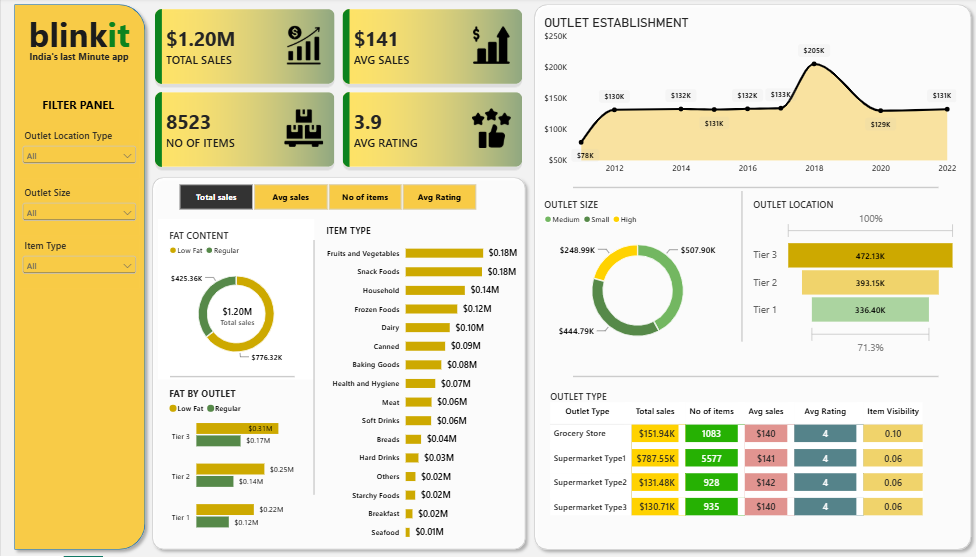

The page's visual inventory and layout, read from the dashboard file:
{"tool":"powerbi","page":{"name":"Page 1","canvas":[1400,800],"ordinal":0},"visuals":[{"type":"shape","box":[10,0,205.7,800],"z":0},{"type":"textbox","box":[25.2,18.9,173.2,70.9],"z":1000},{"type":"textbox","box":[30,75,163.8,30],"z":2000},{"type":"cardVisual","fields":{"Data":["BlinkIT Grocery Data.Total sales","BlinkIT Grocery Data.Average sales","BlinkIT Grocery Data.No of items","BlinkIT Grocery Data.Avg Rating"]},"box":[215.7,9.4,538.6,239.4],"z":3000},{"type":"shape","box":[208.6,248.6,552.9,551.4],"z":4000},{"type":"donutChart","title":"FAT CONTENT","fields":{"Category":["BlinkIT Grocery Data.Item Fat Content"],"Y":["BlinkIT Grocery Data.Total sales"]},"box":[225.7,317.1,224.3,230],"z":5000},{"type":"cardVisual","fields":{"Data":["BlinkIT Grocery Data.Total sales"]},"box":[292.5,423.8,93.8,66.2],"z":7000},{"type":"clusteredBarChart","title":"FAT BY OUTLET","fields":{"Category":["BlinkIT Grocery Data.Outlet Location Type"],"Series":["BlinkIT Grocery Data.Item Fat Content"],"Y":["BlinkIT Grocery Data.Total sales"]},"box":[225.7,542.9,224.3,235.7],"z":8000},{"type":"shape","box":[242.9,528.6,178.8,27.5],"z":9000},{"type":"shape","box":[435,346.2,28.8,365],"z":10000},{"type":"slicer","fields":{"Values":["Metrics.Metrics"]},"box":[235,265,465,40],"z":10001},{"type":"barChart","title":"ITEM TYPE","fields":{"Category":["BlinkIT Grocery Data.Item Type"],"Y":["BlinkIT Grocery Data.Total sales"]},"box":[450,310,305.7,490],"z":10002},{"type":"shape","box":[755.7,0,644.3,800],"z":10003},{"type":"lineChart","title":"OUTLET ESTABLISHMENT","fields":{"Category":["BlinkIT Grocery Data.Outlet Establishment Year"],"Y":["BlinkIT Grocery Data.Total sales"]},"box":[762.9,10,622.9,262.9],"z":10004},{"type":"shape","box":[820,258.6,524.3,27.1],"z":10005},{"type":"donutChart","title":"OUTLET SIZE","fields":{"Category":["BlinkIT Grocery Data.Outlet Size"],"Y":["BlinkIT Grocery Data.Total sales"]},"box":[762.9,272.9,300,251.4],"z":10006},{"type":"shape","box":[1048.6,277.1,28.6,215.7],"z":10007},{"type":"funnel","title":"OUTLET LOCATION","fields":{"Category":["BlinkIT Grocery Data.Outlet Location Type"],"Y":["Sum(BlinkIT Grocery Data.Sales)"]},"box":[1062.9,272.9,322.9,255.7],"z":10008},{"type":"pivotTable","title":"OUTLET TYPE","fields":{"Rows":["BlinkIT Grocery Data.Outlet Type"],"Values":["BlinkIT Grocery Data.Total sales","BlinkIT Grocery Data.No of items","BlinkIT Grocery Data.Avg sales","BlinkIT Grocery Data.Avg Rating","Avg(BlinkIT Grocery Data.Item Visibility)"]},"box":[771.4,547.1,622.9,241.4],"z":10009},{"type":"shape","box":[820,528.6,524.3,27.1],"z":10010},{"type":"slicer","fields":{"Values":["BlinkIT Grocery Data.Outlet Location Type"]},"box":[25.7,187.1,172.9,71.4],"z":10011},{"type":"slicer","fields":{"Values":["BlinkIT Grocery Data.Outlet Size"]},"box":[25.7,270,172.9,71.4],"z":10012},{"type":"slicer","fields":{"Values":["BlinkIT Grocery Data.Item Type"]},"box":[25.7,345.7,172.9,71.4],"z":10013},{"type":"textbox","box":[42.9,141.4,135.7,35.7],"z":10014}]}

Visuals, with their boxes in screenshot pixels (x1, y1, x2, y2), scaled from the page's 1400x800 canvas onto the 976x557 screenshot:
shape: region(7, 0, 150, 556)
textbox: region(18, 13, 138, 63)
textbox: region(21, 52, 135, 73)
cardVisual - BlinkIT Grocery Data.Total sales x BlinkIT Grocery Data.Average sales: region(150, 7, 526, 173)
shape: region(145, 173, 531, 556)
"FAT CONTENT" donutChart: region(157, 221, 314, 381)
cardVisual - BlinkIT Grocery Data.Total sales: region(204, 295, 269, 341)
"FAT BY OUTLET" clusteredBarChart: region(157, 378, 314, 542)
shape: region(169, 368, 294, 387)
shape: region(303, 241, 323, 495)
slicer - Metrics.Metrics: region(164, 185, 488, 212)
"ITEM TYPE" barChart: region(314, 216, 527, 556)
shape: region(527, 0, 975, 556)
"OUTLET ESTABLISHMENT" lineChart: region(532, 7, 966, 190)
shape: region(572, 180, 937, 199)
"OUTLET SIZE" donutChart: region(532, 190, 741, 365)
shape: region(731, 193, 751, 343)
"OUTLET LOCATION" funnel: region(741, 190, 966, 368)
"OUTLET TYPE" pivotTable: region(538, 381, 972, 549)
shape: region(572, 368, 937, 387)
slicer - BlinkIT Grocery Data.Outlet Location Type: region(18, 130, 138, 180)
slicer - BlinkIT Grocery Data.Outlet Size: region(18, 188, 138, 238)
slicer - BlinkIT Grocery Data.Item Type: region(18, 241, 138, 290)
textbox: region(30, 98, 125, 123)
